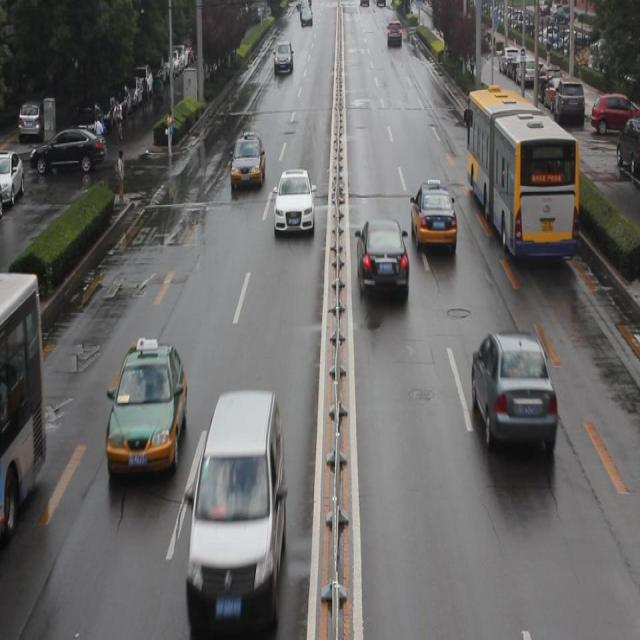car: (468, 326, 555, 459), (104, 339, 185, 476), (357, 218, 408, 308), (411, 182, 456, 257), (274, 170, 315, 240), (230, 135, 264, 191)
truck: (187, 389, 286, 630)
van: (465, 89, 578, 262), (1, 266, 45, 545)
